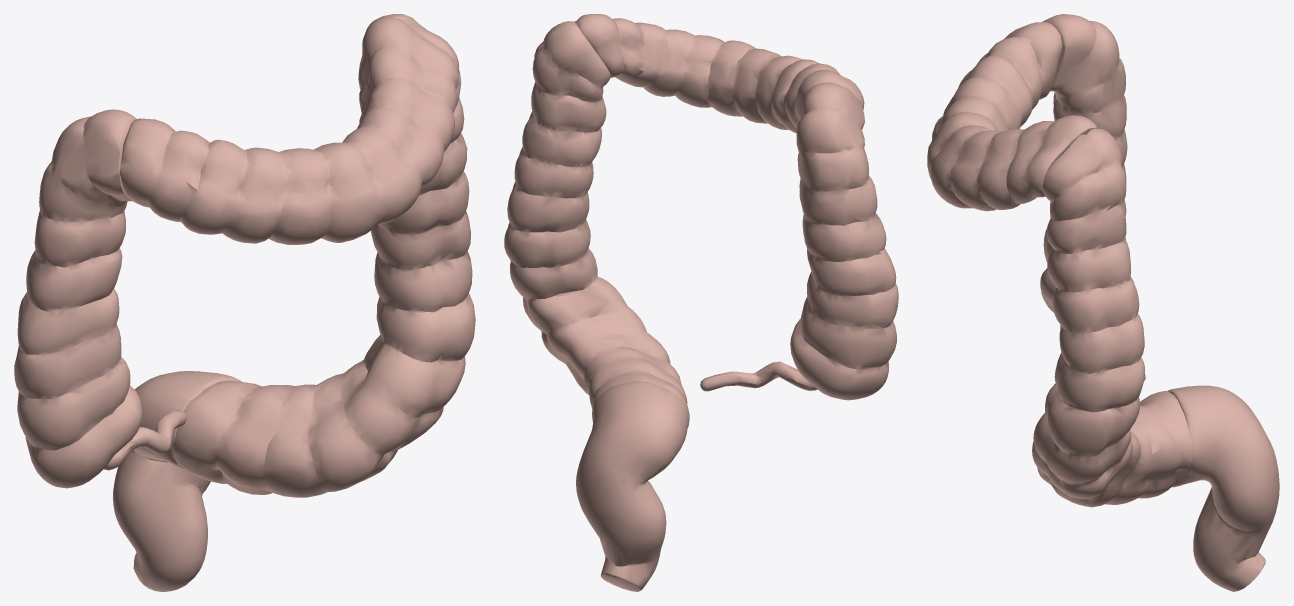
Rendered from large-intestine.glb.
The picture shows the model from 3 angles, left to right: view 1: azimuth 30°, elevation 25°; view 2: azimuth 150°, elevation 25°; view 3: azimuth 270°, elevation 25°; orthographic projection. The views are drawn at different scales.
Parts seen in each view (by area): view 1: bp3d_FMA14547_FJ2567, bp3d_FMA14546_FJ2572, bp3d_FMA14545_FJ2566, bp3d_FMA14544_FJ2571, bp3d_FMA14542_FJ2565; view 2: bp3d_FMA14547_FJ2567, bp3d_FMA14545_FJ2566, bp3d_FMA14546_FJ2572, bp3d_FMA14544_FJ2571, bp3d_FMA14542_FJ2565; view 3: bp3d_FMA14547_FJ2567, bp3d_FMA14546_FJ2572, bp3d_FMA14544_FJ2571, bp3d_FMA14545_FJ2566.
Boxes of the visible parts, left/top/right/bottom form: bp3d_FMA14547_FJ2567: left=172, top=14, right=475, bottom=497; bp3d_FMA14546_FJ2572: left=120, top=16, right=458, bottom=244; bp3d_FMA14545_FJ2566: left=14, top=109, right=142, bottom=488; bp3d_FMA14544_FJ2571: left=113, top=371, right=241, bottom=591; bp3d_FMA14542_FJ2565: left=104, top=410, right=186, bottom=470; bp3d_FMA14547_FJ2567: left=504, top=21, right=689, bottom=427; bp3d_FMA14545_FJ2566: left=790, top=83, right=898, bottom=400; bp3d_FMA14546_FJ2572: left=575, top=14, right=864, bottom=133; bp3d_FMA14544_FJ2571: left=576, top=381, right=688, bottom=591; bp3d_FMA14542_FJ2565: left=700, top=361, right=817, bottom=391; bp3d_FMA14547_FJ2567: left=1032, top=128, right=1192, bottom=507; bp3d_FMA14546_FJ2572: left=927, top=22, right=1097, bottom=211; bp3d_FMA14544_FJ2571: left=1167, top=385, right=1279, bottom=591; bp3d_FMA14545_FJ2566: left=1040, top=14, right=1127, bottom=312.
Bounding box in the file's own units: 0.2443 × 0.3074 × 0.1857.
